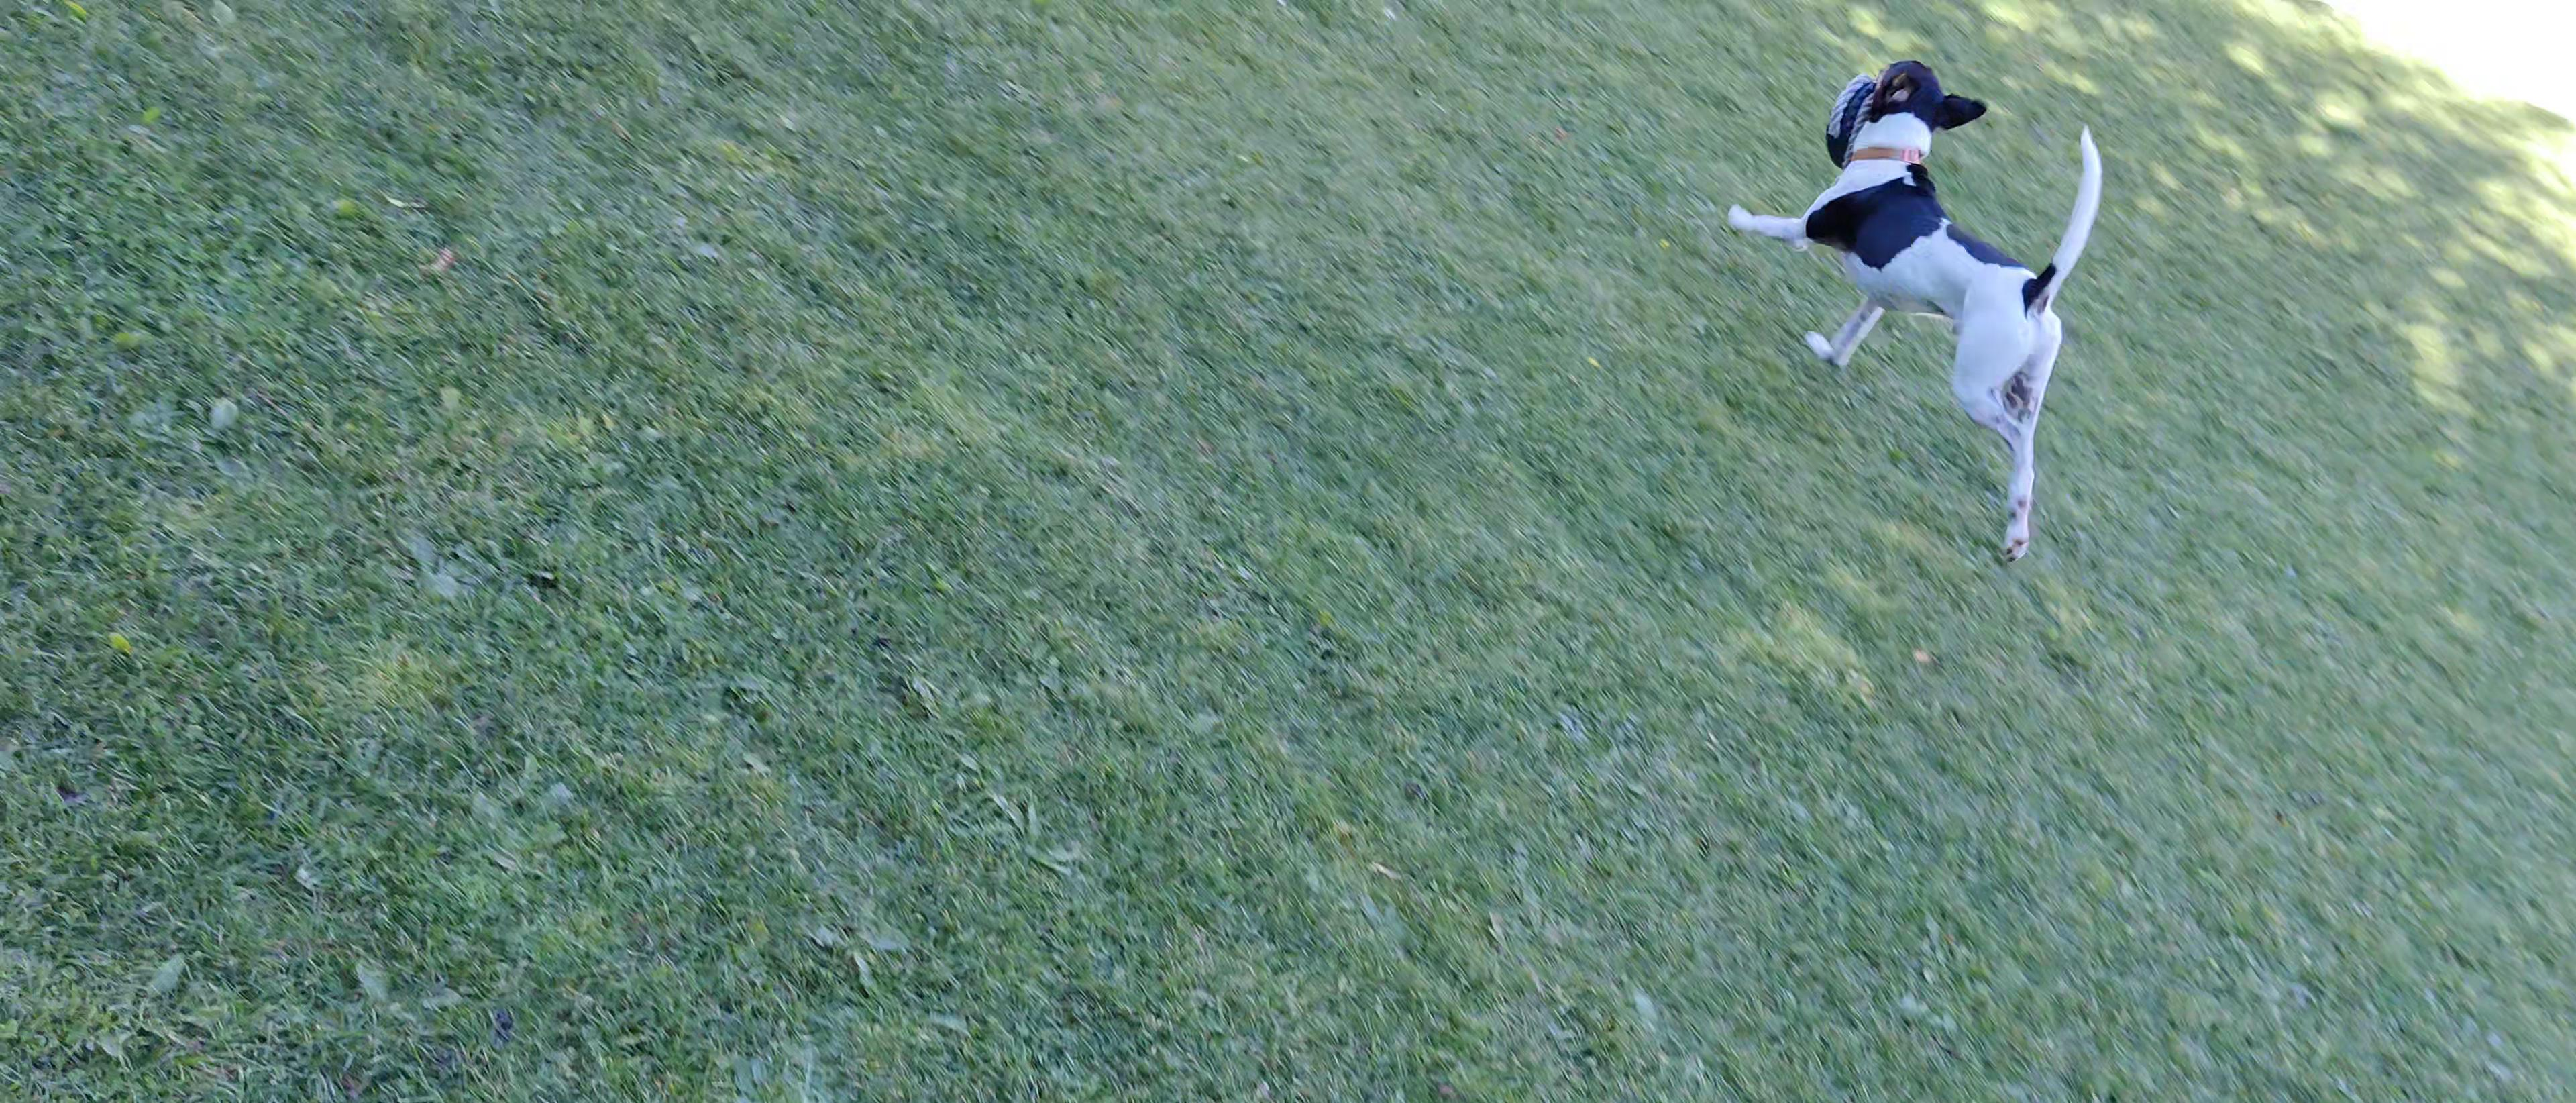Dog: (1709, 44, 2129, 585)
